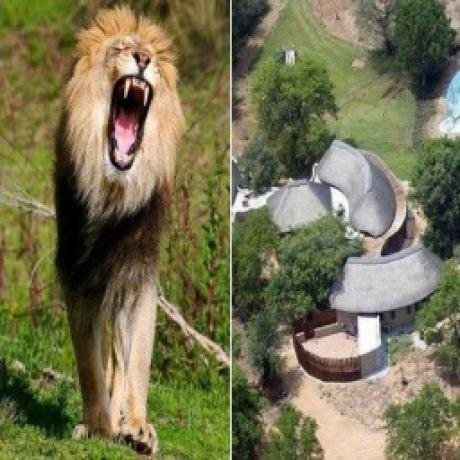Lion: (53, 3, 189, 460)
